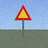sign: (15, 5, 32, 37)
